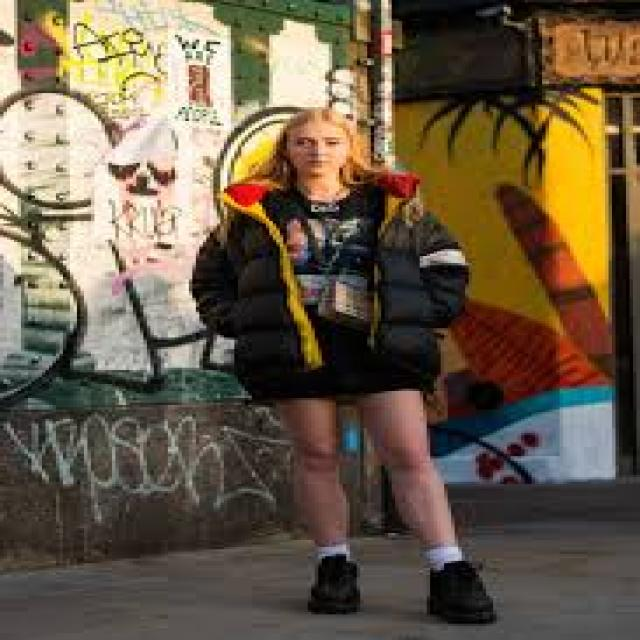Jacket: (187, 178, 476, 398)
